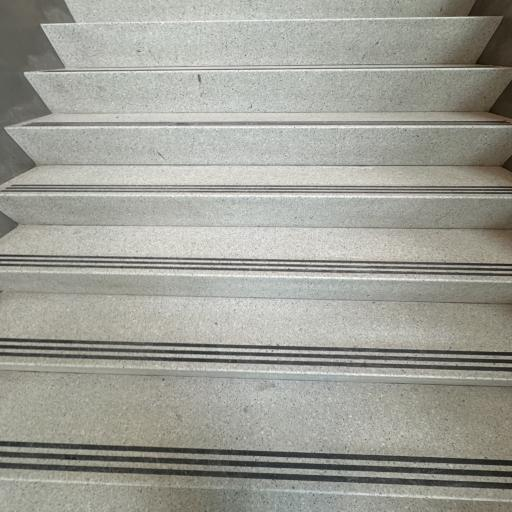Stairs: (0, 0, 512, 512), (0, 372, 512, 512), (0, 293, 512, 386), (0, 225, 512, 303), (0, 165, 512, 229), (7, 112, 512, 166), (25, 64, 512, 113), (66, 0, 474, 23)
